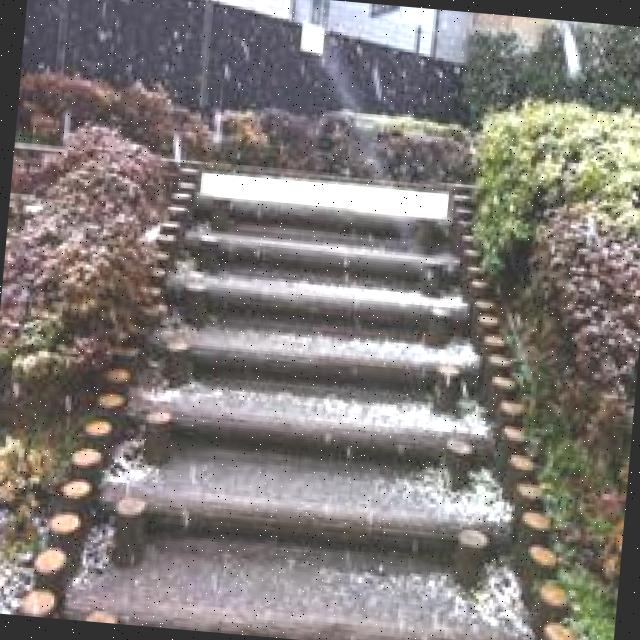stairs: (49, 146, 584, 640)
